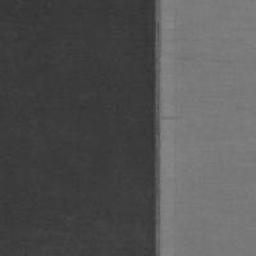Welding line: (151, 0, 163, 256)
